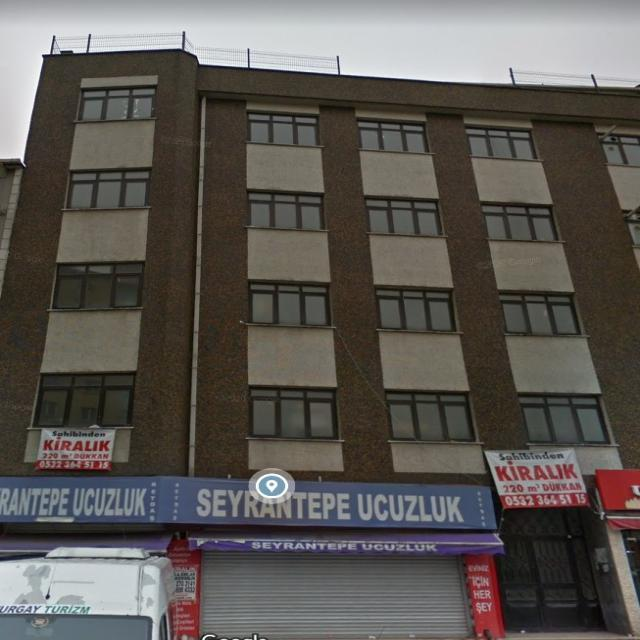Building: (0, 50, 640, 640)
